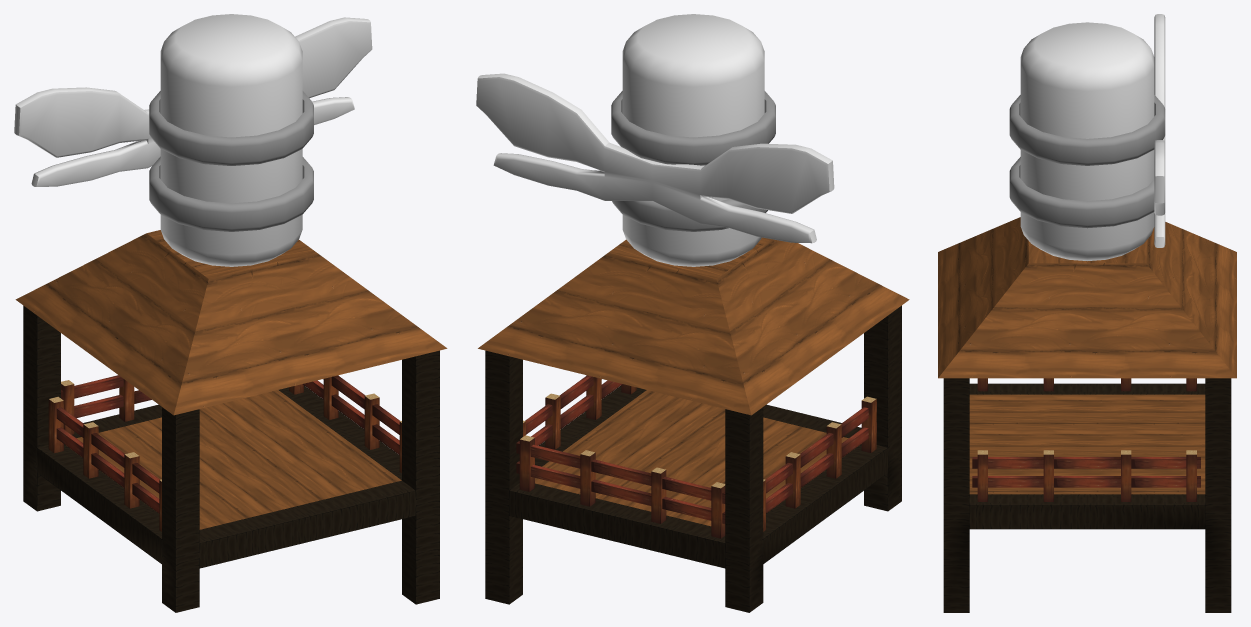
Rendered from HoneyBee.FBX.
3 renders of one model, left to right at view 1: azimuth 30°, elevation 25°; view 2: azimuth 150°, elevation 25°; view 3: azimuth 270°, elevation 25°, orthographic. The views are drawn at different scales.
Visible parts, largest first — view 1: Building, Building_Roof, HoneyBee_Case, HoneyBee_Wings, HoneyBee_Stripes, Fence; view 2: Building, Building_Roof, HoneyBee_Wings, HoneyBee_Case, Fence, HoneyBee_Stripes; view 3: Building, Building_Roof, HoneyBee_Case, HoneyBee_Stripes, Fence, HoneyBee_Wings.
Boxes of the visible parts, bbox=[...] form: Building: bbox=[23, 305, 439, 612]; Building_Roof: bbox=[15, 230, 447, 415]; HoneyBee_Case: bbox=[160, 14, 302, 266]; HoneyBee_Wings: bbox=[14, 17, 372, 186]; HoneyBee_Stripes: bbox=[149, 91, 313, 231]; Fence: bbox=[48, 375, 401, 531]; Building: bbox=[485, 305, 901, 612]; Building_Roof: bbox=[478, 237, 909, 415]; HoneyBee_Wings: bbox=[476, 73, 834, 243]; HoneyBee_Case: bbox=[622, 14, 764, 266]; Fence: bbox=[516, 375, 876, 538]; HoneyBee_Stripes: bbox=[611, 91, 775, 231]; Building: bbox=[943, 378, 1231, 612]; Building_Roof: bbox=[938, 217, 1236, 378]; HoneyBee_Case: bbox=[1020, 22, 1154, 260]; HoneyBee_Stripes: bbox=[1009, 95, 1165, 228]; Fence: bbox=[972, 378, 1200, 501]; HoneyBee_Wings: bbox=[1154, 14, 1165, 247].
Size of the model in its own units: 148 by 214 by 114.
